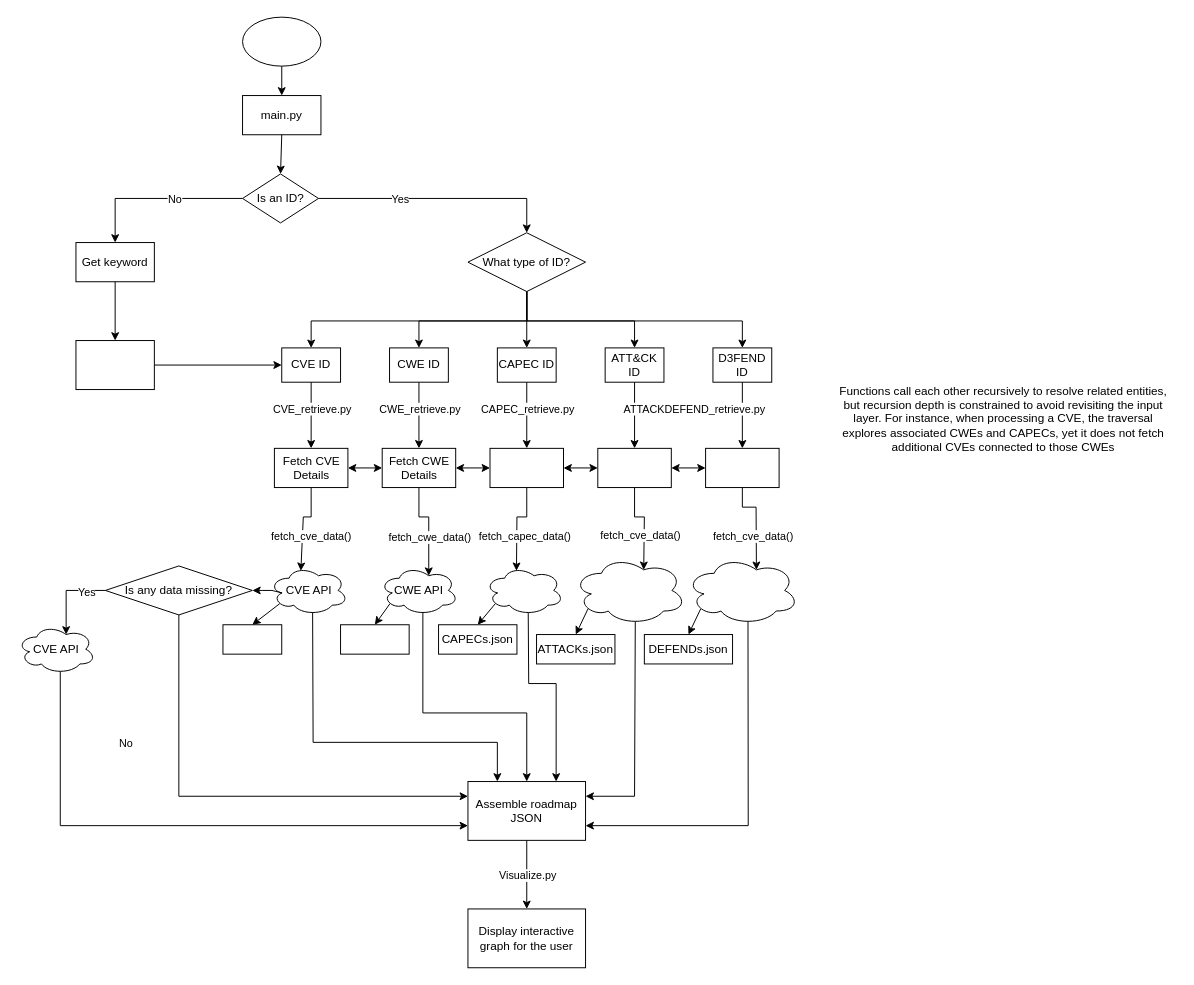
Image size: 1194x985. Some labels were removed from this diagram. Each missing label, with the centre of its shape:
"CAPEC website" goes at pixel 524 590.
"CVEs.json" goes at pixel 252 639.
"CWEs.json" goes at pixel 374 639.
"Fetch ATT&CK Details" goes at pixel 634 467.
"Fetch CAPEC Details" goes at pixel 526 467.
"Fetch D3FEND Details" goes at pixel 742 467.
"Get CVE ID based on keyword" goes at pixel 114 365.
"MITRE ATT&CK website" goes at pixel 629 590.
"MITRE D3FEND website" goes at pixel 742 590.
"User input" goes at pixel 281 41.
